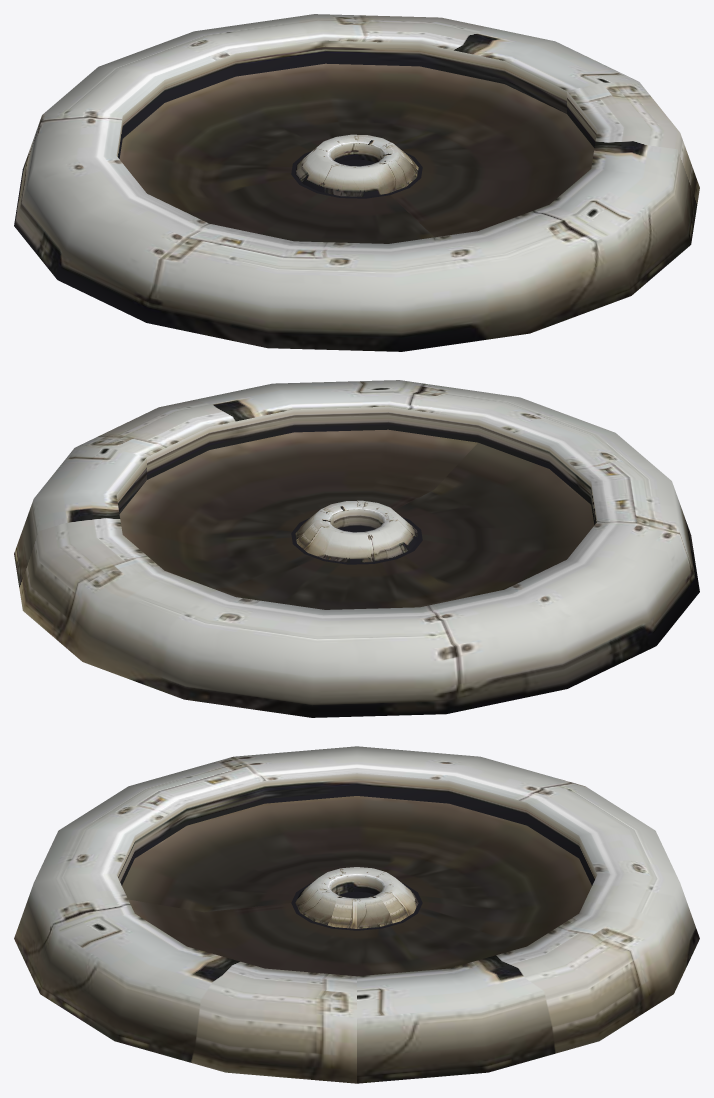
Rendered from Plate for boys.fbx.
The picture shows the model from 3 angles, top to bottom: view 1: azimuth 30°, elevation 25°; view 2: azimuth 150°, elevation 25°; view 3: azimuth 270°, elevation 25°; orthographic projection.
Visible parts, largest first — view 1: Cyberplate; view 2: Cyberplate; view 3: Cyberplate.
Part boxes in pixels (box(x1,y1,x2,y2)): Cyberplate: box(14, 14, 699, 351); Cyberplate: box(14, 380, 699, 717); Cyberplate: box(14, 746, 699, 1083).
Size of the model in its own units: 200 by 20.61 by 200.
